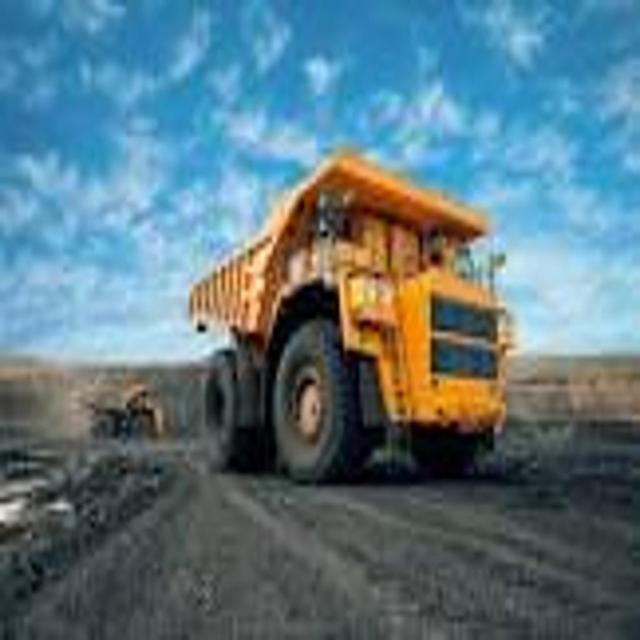dump_truck: (189, 148, 516, 493)
